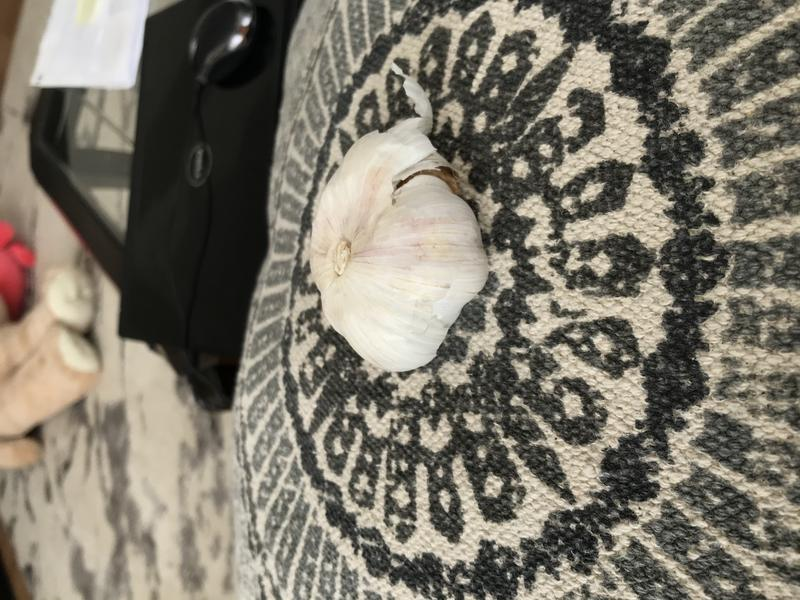garlic: (301, 117, 497, 391)
